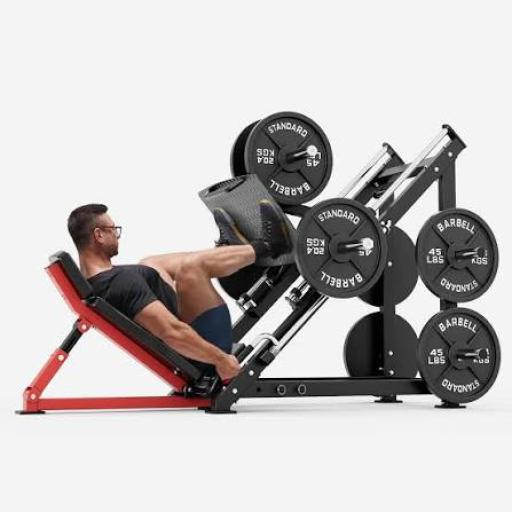Leg Press: (62, 193, 500, 410)
